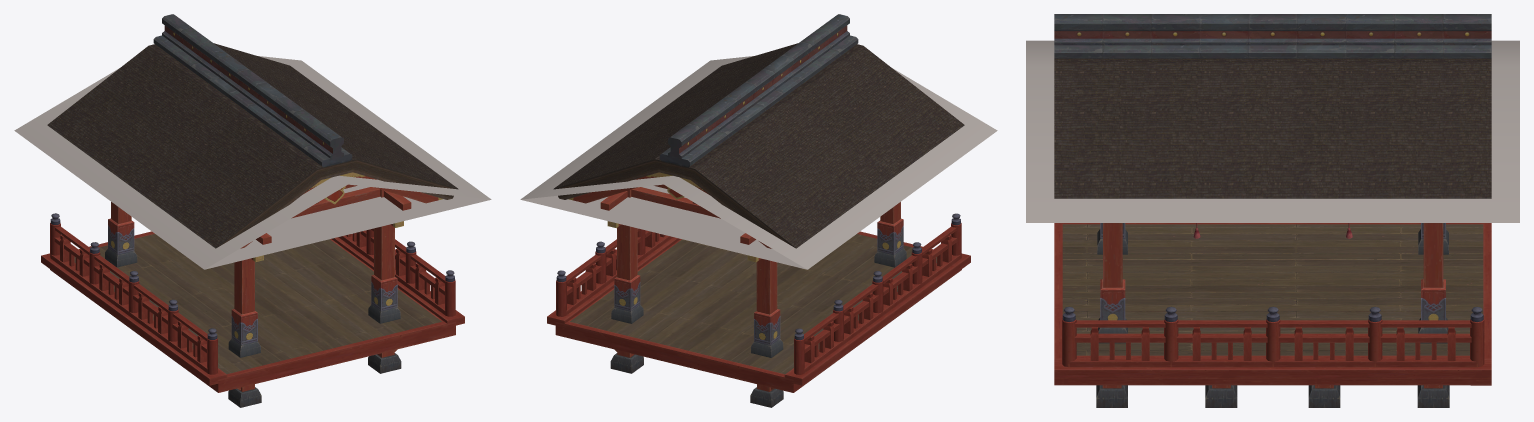
The model's file is Homeworld_Exterior_Dq_Build_Shenshe_03_Lod0.fbx.
3 renders of one model, left to right at view 1: azimuth 30°, elevation 25°; view 2: azimuth 150°, elevation 25°; view 3: azimuth 270°, elevation 25°, orthographic. The views are drawn at different scales.
Parts seen in each view (by area): view 1: Homeworld_Exterior_Dq_Build_Shenshe_03_Lod0, Homeworld_Exterior_Dq_Build_Shenshe_03_Ocl; view 2: Homeworld_Exterior_Dq_Build_Shenshe_03_Lod0, Homeworld_Exterior_Dq_Build_Shenshe_03_Ocl; view 3: Homeworld_Exterior_Dq_Build_Shenshe_03_Lod0, Homeworld_Exterior_Dq_Build_Shenshe_03_Ocl.
Boxes of the visible parts, x1,y1,x2,y2 form: Homeworld_Exterior_Dq_Build_Shenshe_03_Lod0: (41,14,464,407); Homeworld_Exterior_Dq_Build_Shenshe_03_Ocl: (14,56,491,269); Homeworld_Exterior_Dq_Build_Shenshe_03_Lod0: (547,14,970,407); Homeworld_Exterior_Dq_Build_Shenshe_03_Ocl: (520,56,997,269); Homeworld_Exterior_Dq_Build_Shenshe_03_Lod0: (1054,14,1491,407); Homeworld_Exterior_Dq_Build_Shenshe_03_Ocl: (1026,40,1519,222).
Size of what is drawn, in the model's own units: 7.79 by 6.78 by 8.93.
